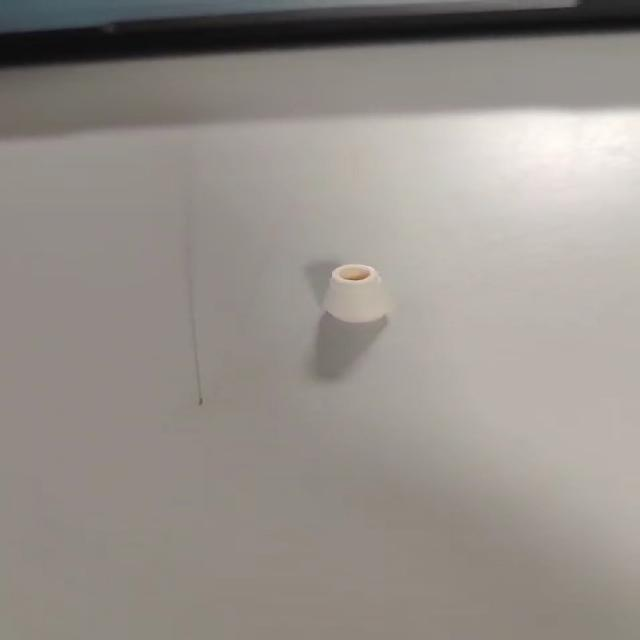Z1x1x1: (317, 262, 394, 326)
